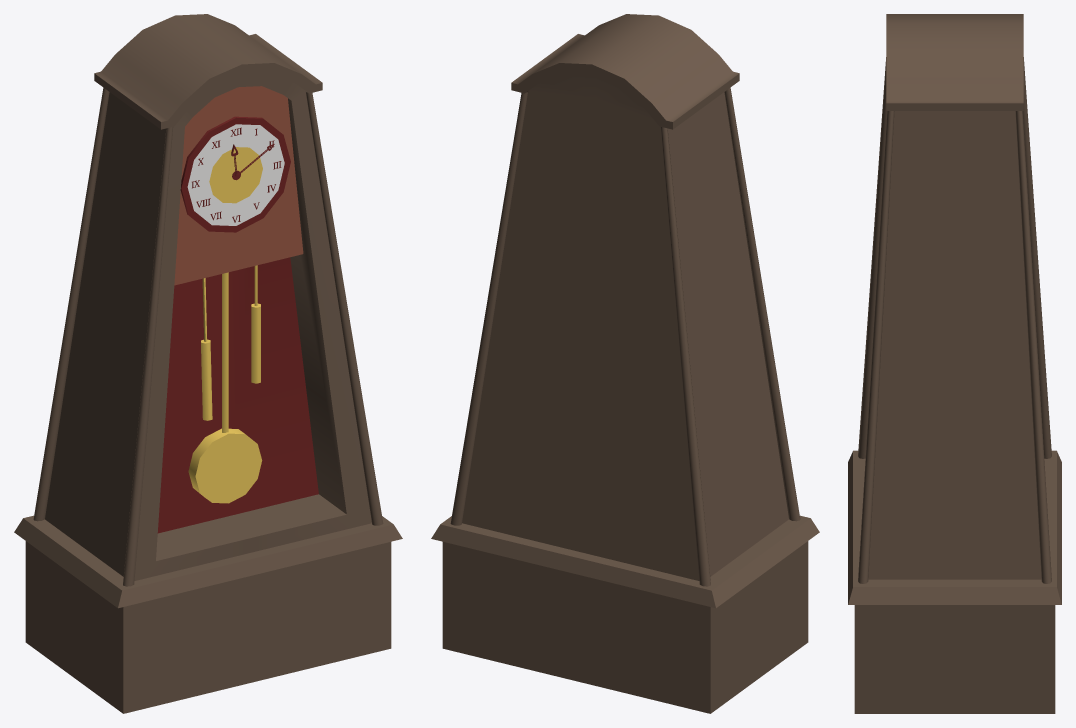
File: Clock_2_231109.glb
The picture shows the model from 3 angles, left to right: view 1: azimuth 30°, elevation 25°; view 2: azimuth 150°, elevation 25°; view 3: azimuth 270°, elevation 25°; orthographic projection. The views are drawn at different scales.
Visible parts, largest first — view 1: Clock_2; view 2: Clock_2; view 3: Clock_2.
Boxes of the visible parts, <box> form: Clock_2: <box>14,14,402,713</box>; Clock_2: <box>431,14,819,713</box>; Clock_2: <box>848,14,1061,713</box>.
Bounding box in the file's own units: 1.23 × 2.49 × 0.7745.
Materials: 1 (1 with a texture image).
